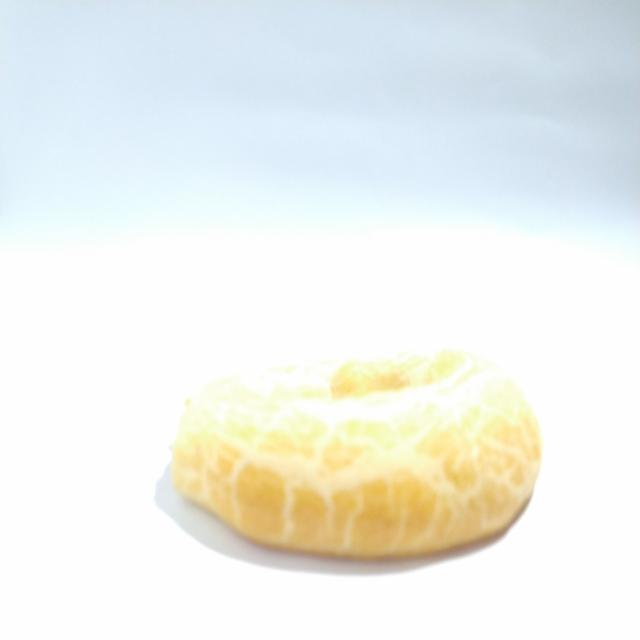Food: (162, 318, 548, 574)
